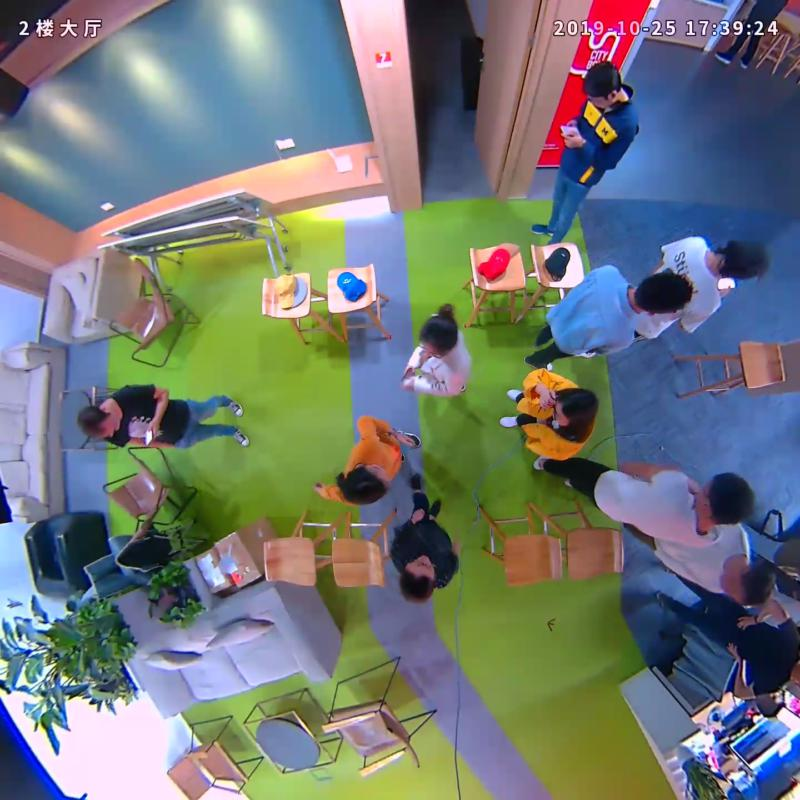head: (694, 471, 755, 527), (712, 237, 768, 282), (634, 271, 692, 314), (719, 563, 776, 606), (341, 463, 392, 508), (550, 387, 598, 431), (399, 553, 438, 604), (582, 59, 620, 108), (419, 312, 458, 356), (76, 405, 121, 440)
